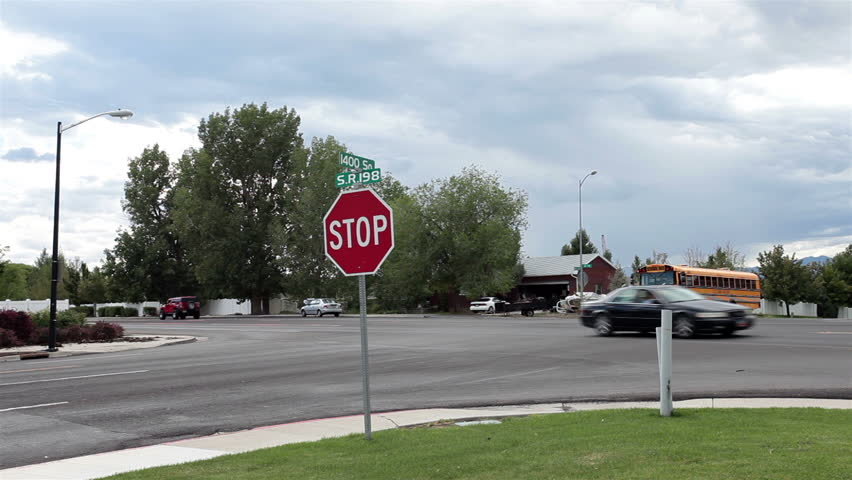stop_sign: (321, 188, 395, 276)
